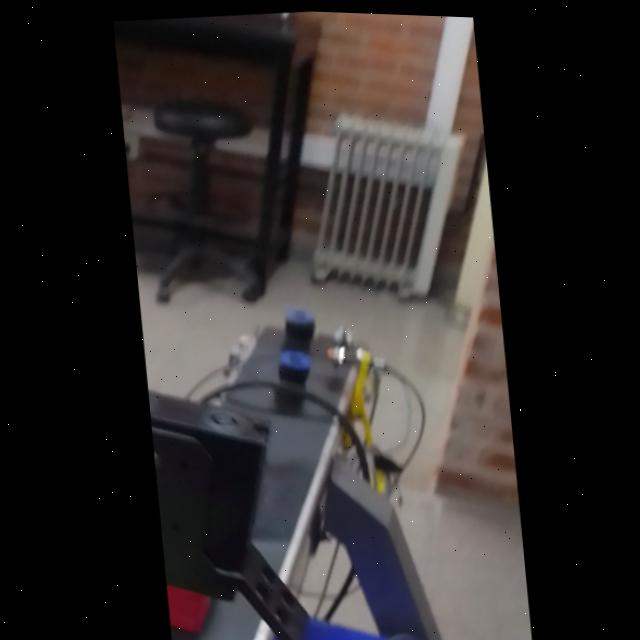redBox: (163, 549, 232, 637)
yellowBox: (169, 623, 202, 640)
